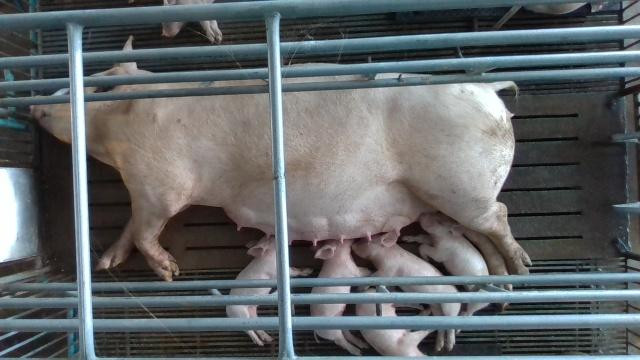piglet: (352, 231, 462, 352), (226, 236, 312, 346), (402, 214, 490, 312), (311, 239, 370, 356), (356, 287, 432, 356), (162, 0, 223, 44)
sow-sleep-lactate: (31, 35, 534, 292)
